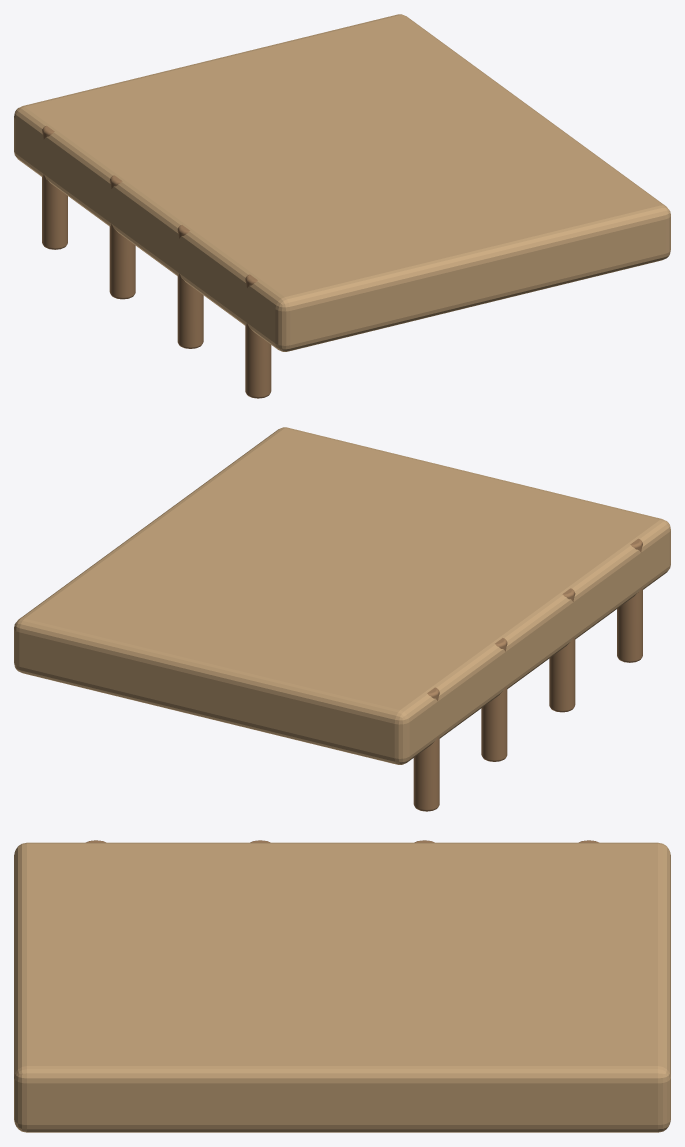
The model's file is marina_dock_connector_lod0_v1.glb.
3 renders of one model, top to bottom at view 1: azimuth 30°, elevation 25°; view 2: azimuth 150°, elevation 25°; view 3: azimuth 270°, elevation 25°, orthographic. The views are drawn at different scales.
Visible parts, largest first — view 1: LOD0_MARINA_DOCK_CONNECTOR_Deck, LOD0_MARINA_DOCK_CONNECTOR_Pile_03, LOD0_MARINA_DOCK_CONNECTOR_Pile_02, LOD0_MARINA_DOCK_CONNECTOR_Pile_01, LOD0_MARINA_DOCK_CONNECTOR_Pile_04; view 2: LOD0_MARINA_DOCK_CONNECTOR_Deck, LOD0_MARINA_DOCK_CONNECTOR_Pile_02, LOD0_MARINA_DOCK_CONNECTOR_Pile_03, LOD0_MARINA_DOCK_CONNECTOR_Pile_04, LOD0_MARINA_DOCK_CONNECTOR_Pile_01; view 3: LOD0_MARINA_DOCK_CONNECTOR_Deck.
Part boxes in pixels (x1,y1,x2,y2): LOD0_MARINA_DOCK_CONNECTOR_Deck: [14, 14, 670, 351]; LOD0_MARINA_DOCK_CONNECTOR_Pile_03: [109, 175, 135, 299]; LOD0_MARINA_DOCK_CONNECTOR_Pile_02: [177, 225, 203, 348]; LOD0_MARINA_DOCK_CONNECTOR_Pile_01: [245, 274, 271, 398]; LOD0_MARINA_DOCK_CONNECTOR_Pile_04: [42, 125, 67, 249]; LOD0_MARINA_DOCK_CONNECTOR_Deck: [14, 427, 670, 764]; LOD0_MARINA_DOCK_CONNECTOR_Pile_02: [549, 588, 575, 712]; LOD0_MARINA_DOCK_CONNECTOR_Pile_03: [481, 638, 507, 761]; LOD0_MARINA_DOCK_CONNECTOR_Pile_04: [413, 687, 439, 811]; LOD0_MARINA_DOCK_CONNECTOR_Pile_01: [617, 538, 642, 662]; LOD0_MARINA_DOCK_CONNECTOR_Deck: [14, 842, 670, 1132].
Size of what is drawn, in the model's own units: 4.2 by 1.21 by 5.
